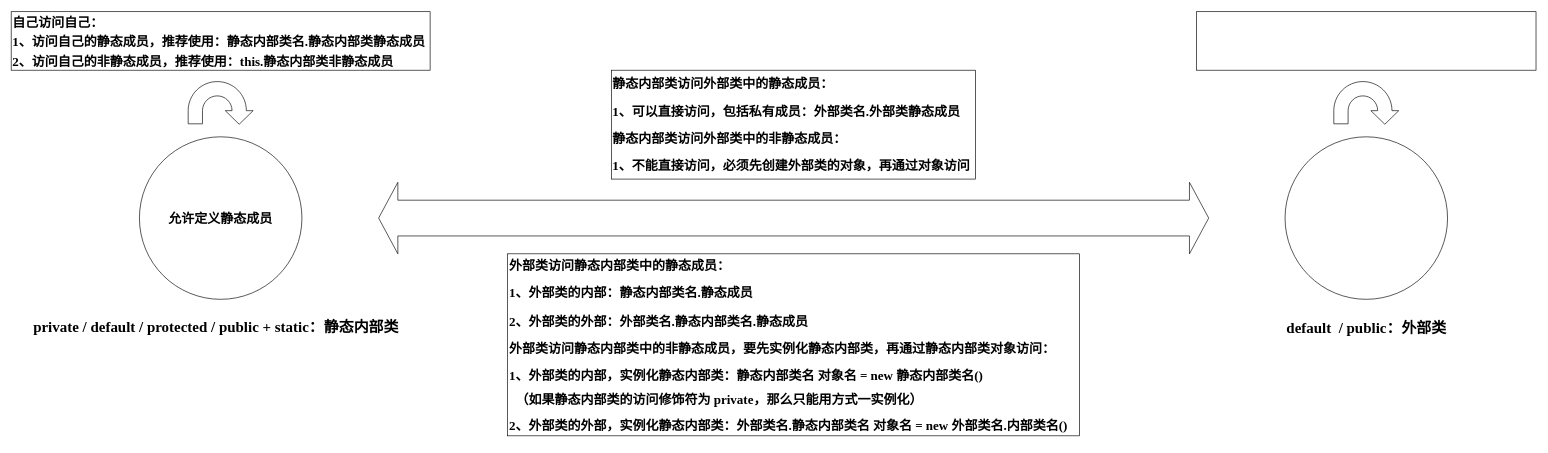
Some shapes in this 1548 by 453 pixel diagram are drawn without their labels. The box of each missing label's shape, as (x1, y1, x2, y2) in pixels:
自己访问自己： 1、访问自己的静态成员，推荐使用：外部类名.外部类成员 2、访问自己的非静态成员，推荐使用：this.外部类成员: (1196, 11, 1536, 70)
访问成员: (378, 182, 1209, 254)
